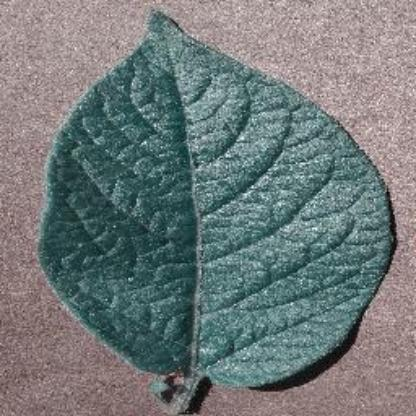Healthy-plant: (37, 12, 401, 406)
